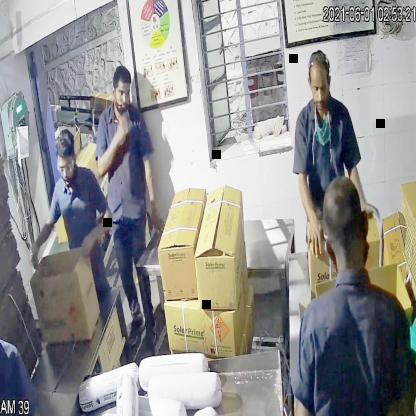goggles: (53, 156, 78, 182)
no_goggles: (305, 75, 333, 102), (110, 86, 134, 106)
